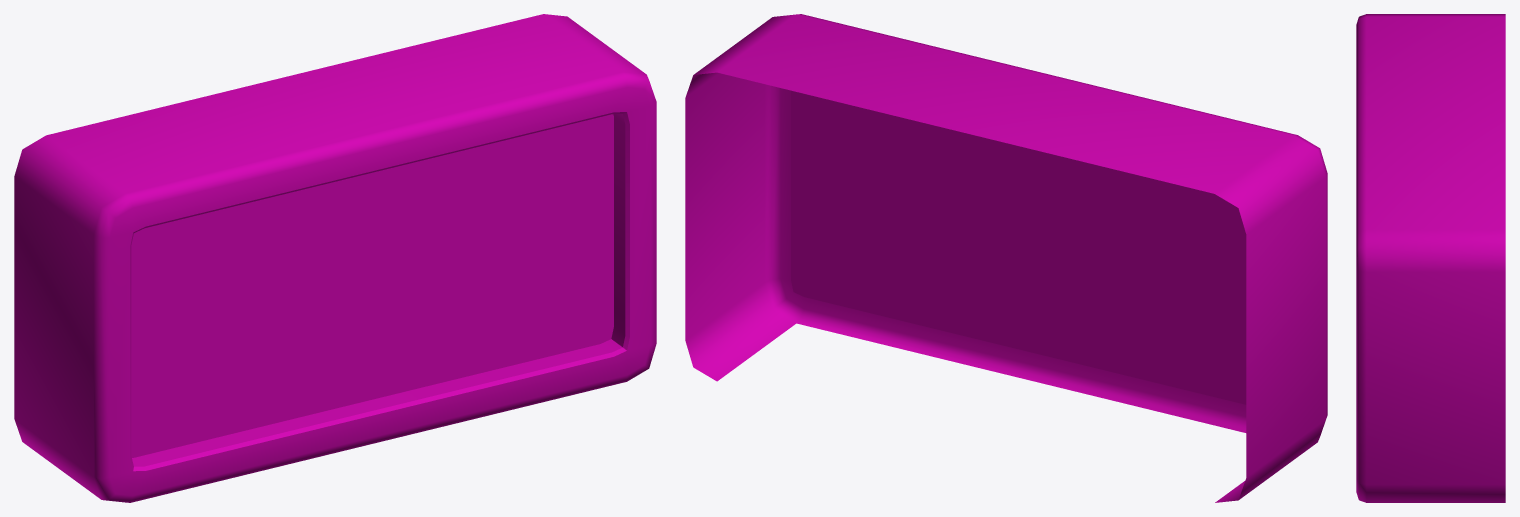
3 views of the same model, side by side, from view 1: azimuth 30°, elevation 25°; view 2: azimuth 150°, elevation 25°; view 3: azimuth 270°, elevation 25° (orthographic). The views are drawn at different scales.
Parts seen in each view (by area): view 1: SM_TV; view 2: SM_TV; view 3: SM_TV.
Part boxes in pixels (bbox=[...]): SM_TV: bbox=[14, 14, 656, 502]; SM_TV: bbox=[685, 14, 1327, 502]; SM_TV: bbox=[1356, 14, 1505, 502].
Size of the model in its own units: 190 by 100 by 50.
